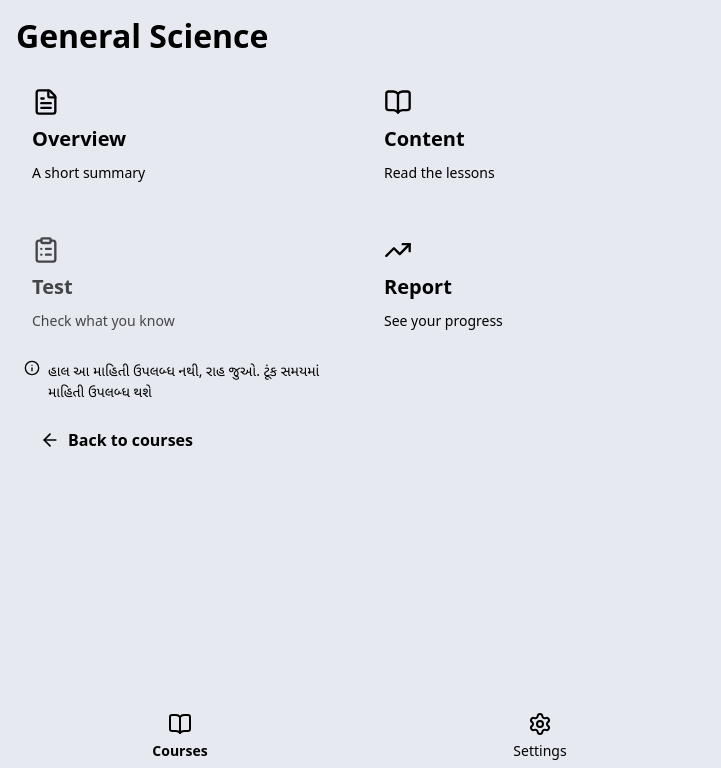
Test case: home routes inside the Shell › the Report tile opens the real report screen (P08) inside the Shell, and Back returns to the course
Check: the heading "General Science" is shown, box [16,14,268,57]
Click the button "Report See your progress": click(418, 286) [368,220,704,352]
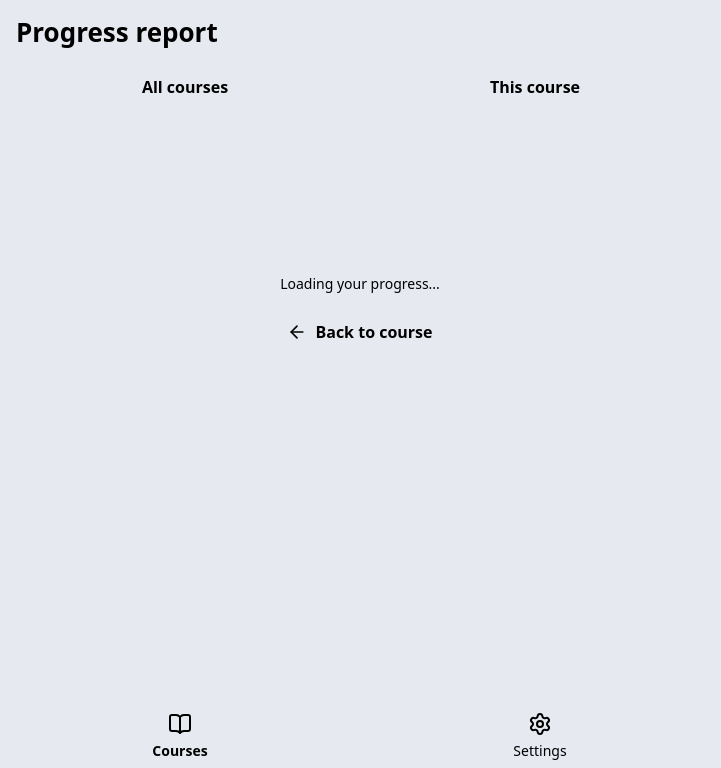
Check: the navigation bar named "Main" is shown, box [152,712,567,760]
Check: the heading "Progress report" is shown, box [16,16,218,48]
Click the button "Back to course": click(360, 332) [16,310,704,354]
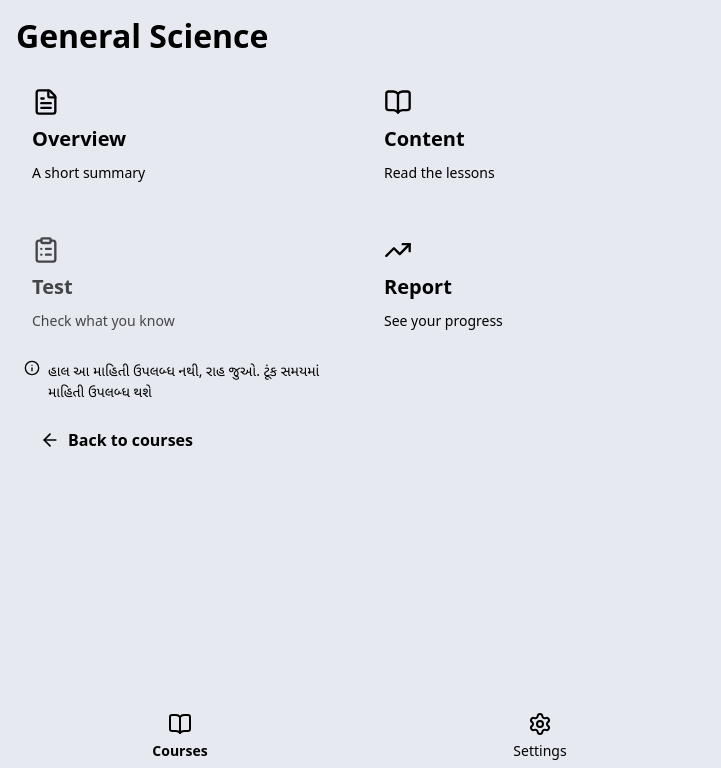
Check: the heading "General Science" is shown, box [16,14,268,57]
